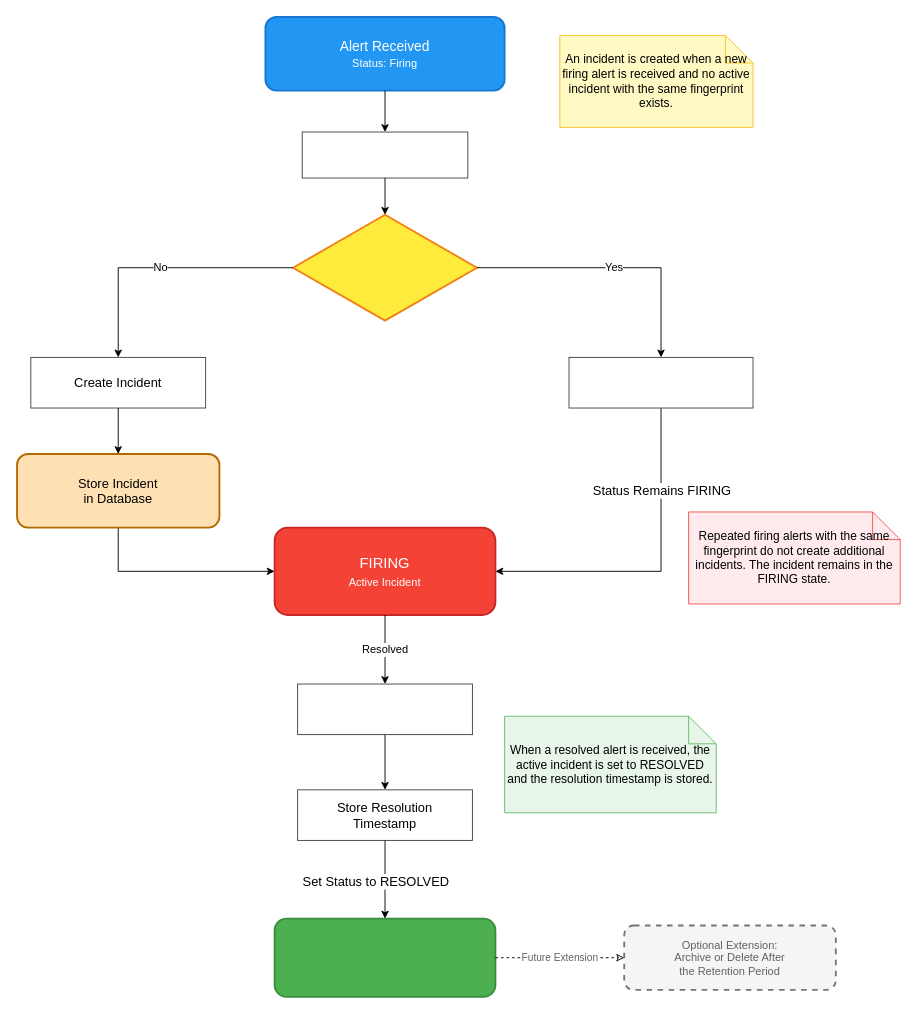
Some shapes in this 916 by 1013 pixel diagram are drawn without their labels. Here are the shapes that lost their labels. From the top down, the centre of each, then its label:
At pixel 384 154: "Check Fingerprint".
At pixel 384 267: "Active Incident with the Same Fingerprint Exists?".
At pixel 660 382: "Do Not Create a New Incident".
At pixel 384 709: "Resolved Alert Received".
At pixel 384 957: "RESOLVED Incident Resolved".
